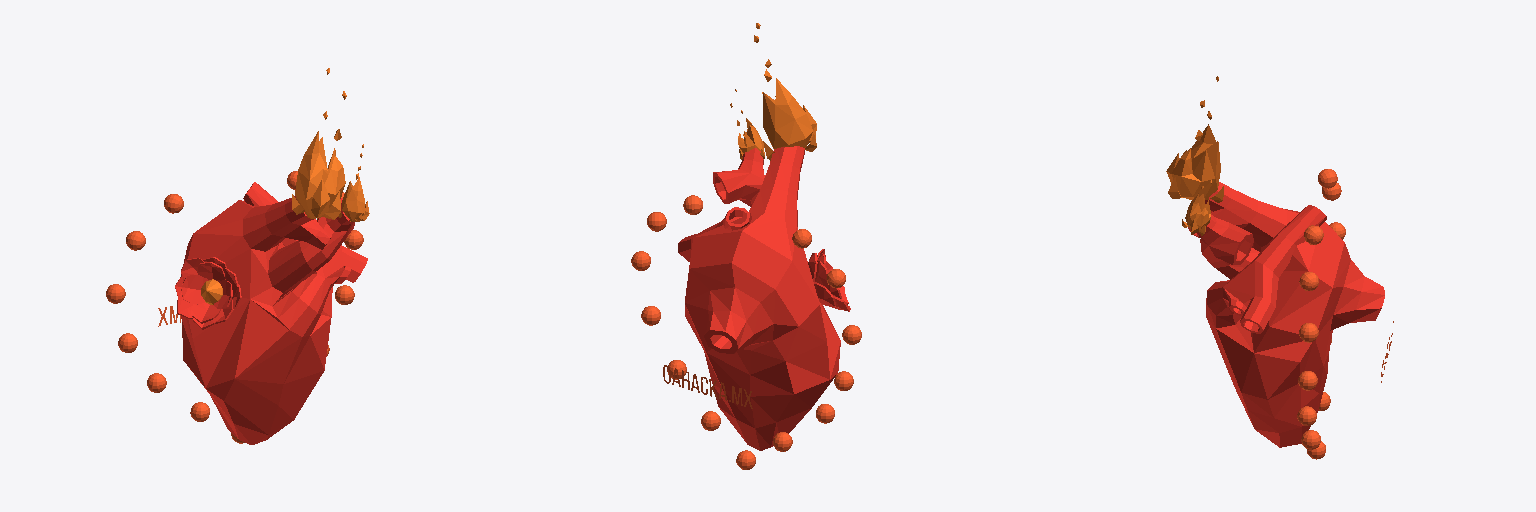
File: Oahack2VR.obj
The picture shows the model from 3 angles: view 1: azimuth 30°, elevation 25°; view 2: azimuth 150°, elevation 25°; view 3: azimuth 270°, elevation 25°; orthographic projection.
Parts seen in each view (by area): view 1: Heart, fuego, pCube13; view 2: Heart, fuego, pCube13, Text_oahacka; view 3: Heart, fuego.
Part boxes in pixels (x1,y1,x2,y2): Heart: (181,182,367,444); fuego: (292,68,369,221); pCube13: (175,257,241,329); Heart: (678,146,840,450); fuego: (730,23,816,160); pCube13: (808,249,850,311); Text_oahacka: (663,365,752,408); Heart: (1188,182,1384,447); fuego: (1166,76,1223,235).
Size of the model in its own units: 1.64 by 2.6 by 1.33.